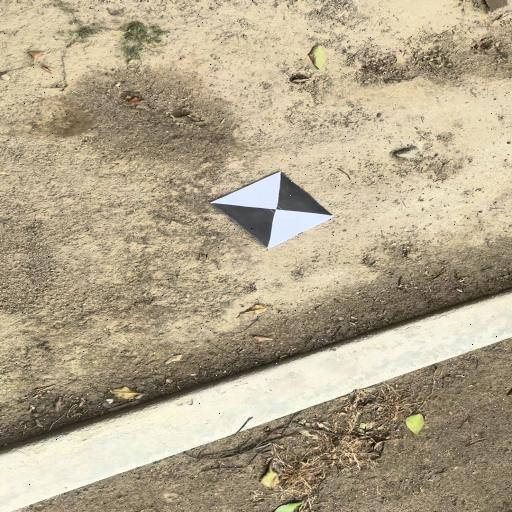target: (209, 172, 333, 248)
